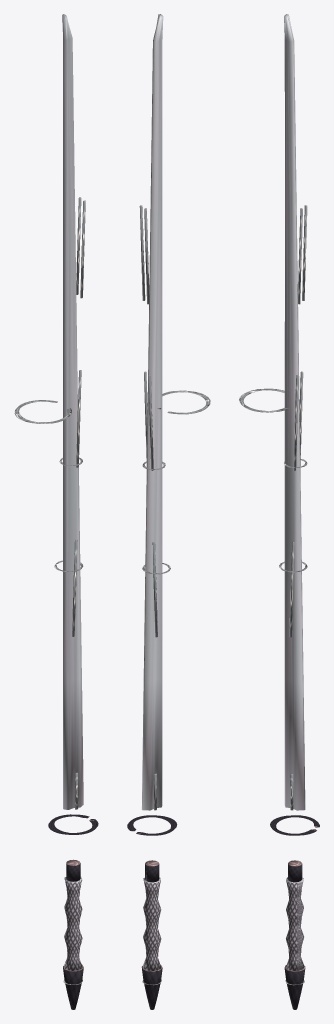
File: sword_12_nirvana_mirror.glb
The picture shows the model from 3 angles, left to right: view 1: azimuth 30°, elevation 25°; view 2: azimuth 210°, elevation 25°; view 3: azimuth 330°, elevation 25°; orthographic projection.
Visible parts, largest first — view 1: Blade_NirvanaMirror, Grip_NirvanaIto, Inlay_MirrorStreaks, Pommel_ZenBead, Tsuba_EnsoTsuba, Zen_EnsoRing, Collar_NirvanaFerrule; view 2: Blade_NirvanaMirror, Inlay_MirrorStreaks, Grip_NirvanaIto, Pommel_ZenBead, Tsuba_EnsoTsuba, Collar_NirvanaFerrule, Zen_EnsoRing; view 3: Blade_NirvanaMirror, Inlay_MirrorStreaks, Grip_NirvanaIto, Pommel_ZenBead, Tsuba_EnsoTsuba, Collar_NirvanaFerrule, Zen_EnsoRing.
Boxes of the visible parts, bbox=[...] form: Blade_NirvanaMirror: bbox=[62, 14, 83, 809]; Grip_NirvanaIto: bbox=[64, 877, 82, 970]; Inlay_MirrorStreaks: bbox=[72, 197, 85, 636]; Pommel_ZenBead: bbox=[63, 964, 83, 1009]; Tsuba_EnsoTsuba: bbox=[48, 814, 98, 834]; Zen_EnsoRing: bbox=[14, 400, 71, 423]; Collar_NirvanaFerrule: bbox=[66, 859, 80, 881]; Blade_NirvanaMirror: bbox=[141, 14, 163, 810]; Inlay_MirrorStreaks: bbox=[139, 205, 157, 637]; Grip_NirvanaIto: bbox=[143, 877, 161, 970]; Pommel_ZenBead: bbox=[141, 965, 162, 1009]; Tsuba_EnsoTsuba: bbox=[127, 815, 177, 835]; Collar_NirvanaFerrule: bbox=[145, 860, 159, 882]; Zen_EnsoRing: bbox=[157, 390, 210, 414]; Blade_NirvanaMirror: bbox=[284, 14, 305, 810]; Inlay_MirrorStreaks: bbox=[289, 205, 307, 637]; Grip_NirvanaIto: bbox=[286, 877, 304, 970]; Pommel_ZenBead: bbox=[284, 965, 305, 1009]; Tsuba_EnsoTsuba: bbox=[270, 815, 319, 835]; Collar_NirvanaFerrule: bbox=[288, 860, 302, 882]; Zen_EnsoRing: bbox=[239, 388, 289, 412].
Size of the model in its own units: 0.2079 by 2.6 by 0.136.
1 material, 1 textured.
